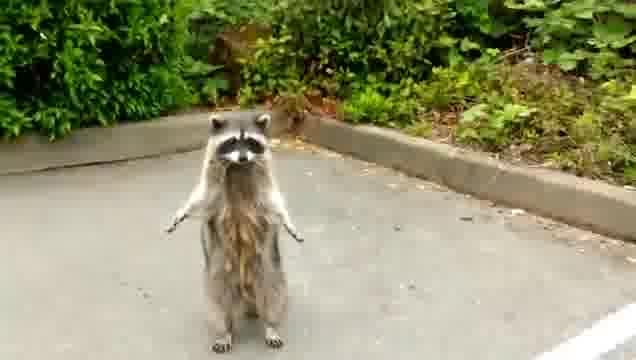raccoon: (164, 112, 306, 354)
